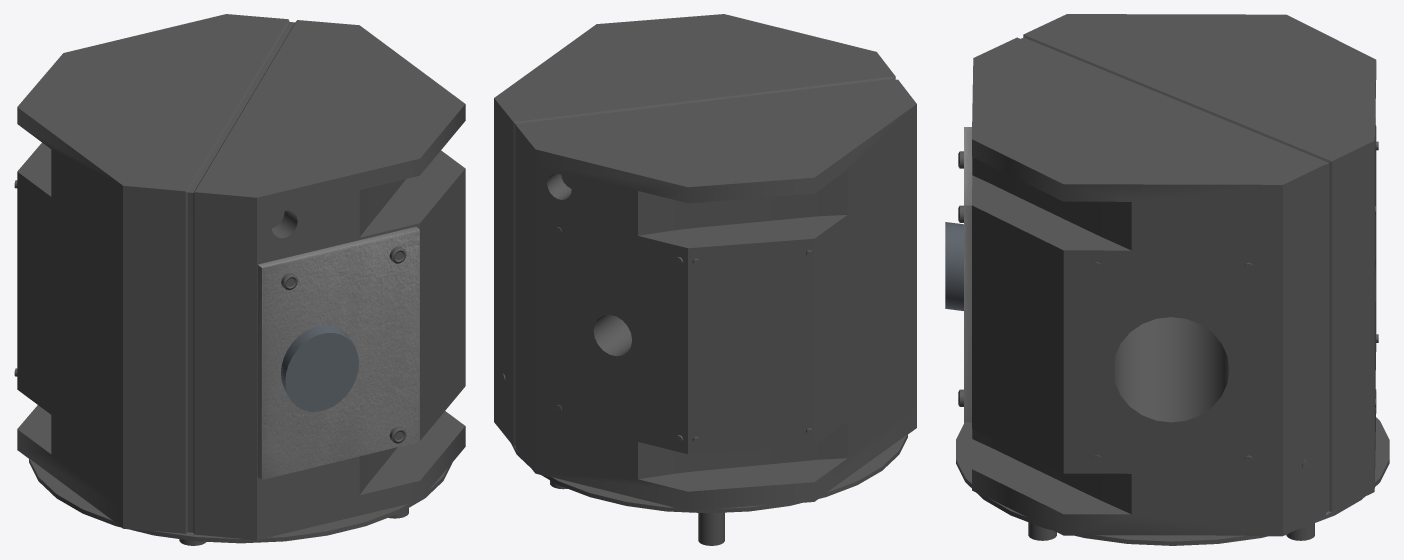
The model's file is Shar_6.glb.
The picture shows the model from 3 angles, left to right: view 1: azimuth 30°, elevation 25°; view 2: azimuth 150°, elevation 25°; view 3: azimuth 270°, elevation 25°; orthographic projection. The views are drawn at different scales.
Parts seen in each view (by area): view 1: Cylinder078.002, Box013.002, Cylinder236.002, Cylinder101.002; view 2: Cylinder078.002, Cylinder101.002, Cylinder103.002; view 3: Cylinder078.002, Cylinder101.002, Box013.002, Cylinder236.002.
Part boxes in pixels (left/top/right/bottom): Cylinder078.002: left=17, top=14, right=465, bottom=540; Box013.002: left=257, top=226, right=419, bottom=479; Cylinder236.002: left=281, top=325, right=358, bottom=411; Cylinder101.002: left=29, top=458, right=452, bottom=543; Cylinder078.002: left=494, top=14, right=916, bottom=511; Cylinder101.002: left=511, top=434, right=907, bottom=513; Cylinder103.002: left=698, top=512, right=724, bottom=545; Cylinder078.002: left=972, top=14, right=1376, bottom=536; Cylinder101.002: left=956, top=417, right=1389, bottom=545; Box013.002: left=964, top=127, right=972, bottom=423; Cylinder236.002: left=945, top=222, right=963, bottom=310.
Size of the model in its own units: 9 by 8.9 by 9.17.
4 materials, 1 textured.
